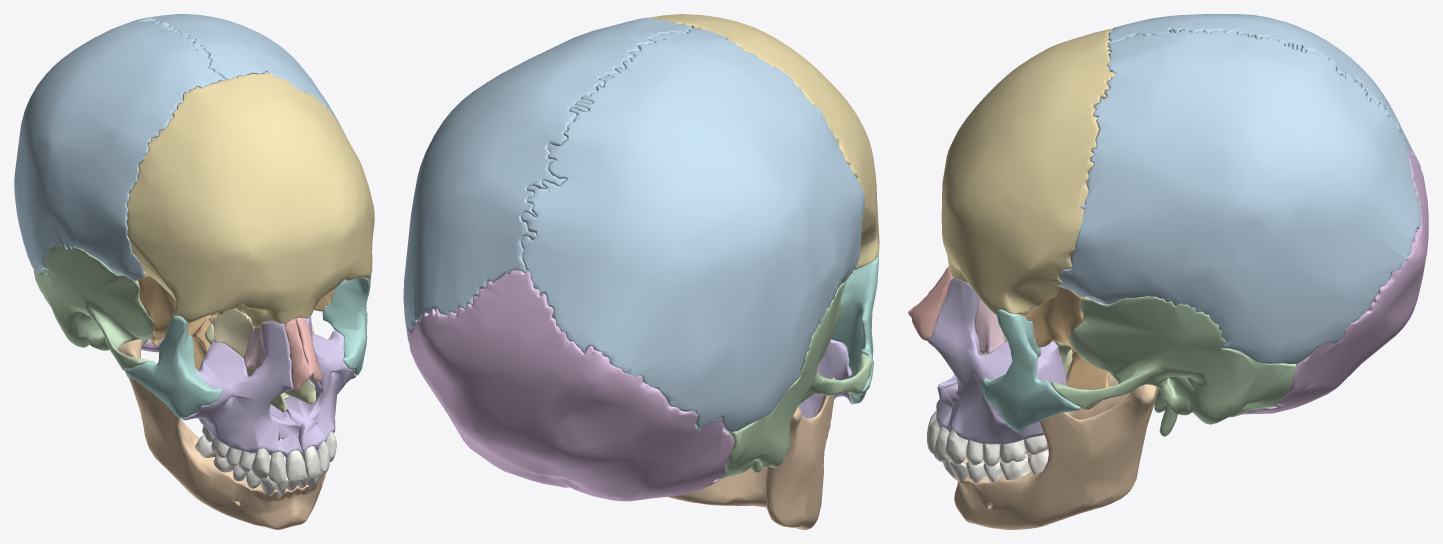
The model's file is skull.glb.
The picture shows the model from 3 angles, left to right: view 1: azimuth 30°, elevation 25°; view 2: azimuth 150°, elevation 25°; view 3: azimuth 270°, elevation 25°; orthographic projection. The views are drawn at different scales.
Visible parts, largest first — view 1: frontal, parietal, maxilla, mandible, temporal, zygomatic, upper_teeth, sphenoid, nasal, lower_teeth, ethmoid, palatine (+1 smaller); view 2: parietal, occipital, frontal, mandible, temporal, zygomatic, maxilla; view 3: parietal, frontal, temporal, mandible, maxilla, occipital, zygomatic, sphenoid, upper_teeth, lower_teeth, nasal, lacrimal.
Boxes of the visible parts, <box> form: frontal: <box>126,72,374,328</box>; parietal: <box>14,14,345,280</box>; maxilla: <box>182,316,355,457</box>; mandible: <box>118,324,325,529</box>; temporal: <box>33,244,366,377</box>; zygomatic: <box>125,275,371,418</box>; upper_teeth: <box>202,426,336,483</box>; sphenoid: <box>138,273,334,370</box>; nasal: <box>284,317,322,390</box>; lower_teeth: <box>195,435,323,495</box>; ethmoid: <box>209,308,254,358</box>; palatine: <box>205,324,316,412</box>; parietal: <box>403,17,864,431</box>; occipital: <box>408,270,734,501</box>; frontal: <box>624,14,879,269</box>; mandible: <box>668,377,835,529</box>; temporal: <box>717,278,872,479</box>; zygomatic: <box>831,255,878,403</box>; maxilla: <box>798,339,854,417</box>; parietal: <box>1059,14,1421,363</box>; frontal: <box>941,28,1115,315</box>; temporal: <box>1051,296,1296,436</box>; mandible: <box>953,374,1159,529</box>; maxilla: <box>928,278,1066,444</box>; occipital: <box>1241,147,1428,414</box>; zygomatic: <box>981,309,1080,432</box>; sphenoid: <box>1022,286,1110,409</box>; upper_teeth: <box>927,410,1047,466</box>; lower_teeth: <box>942,440,1048,482</box>; nasal: <box>908,266,953,340</box>; lacrimal: <box>974,298,1004,353</box>.
Size of the model in its own units: 0.151 by 0.2146 by 0.2088.
